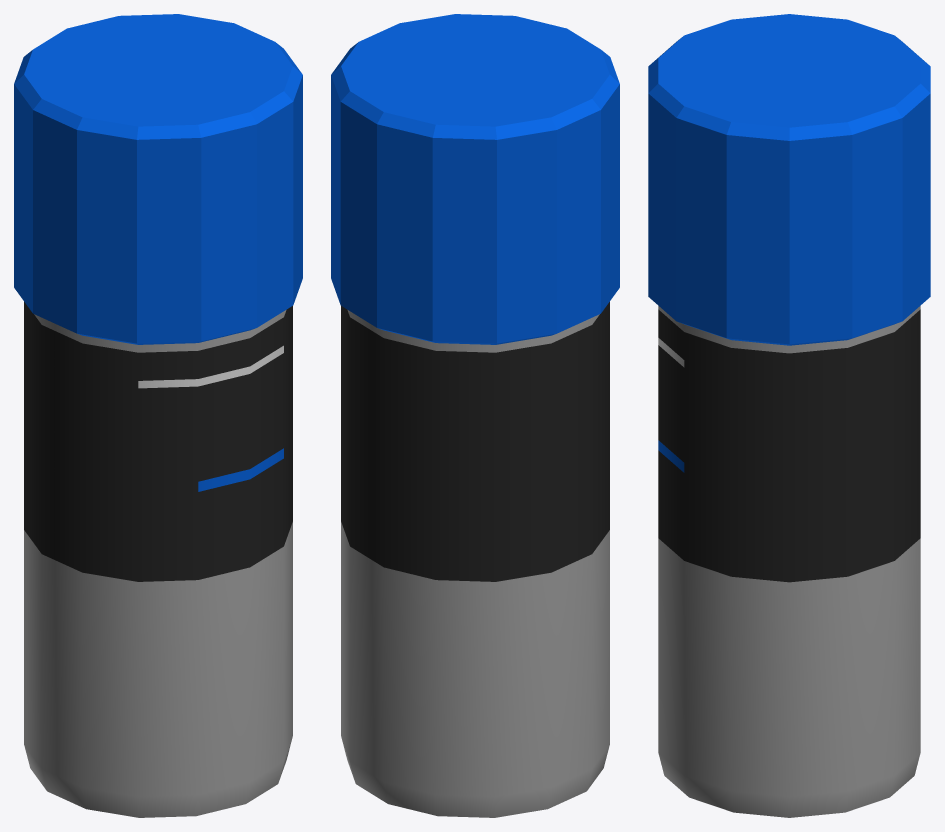
Rendered from SprayPaint_Blue.fbx.
3 views of the same model, side by side, from view 1: azimuth 30°, elevation 25°; view 2: azimuth 150°, elevation 25°; view 3: azimuth 270°, elevation 25° (orthographic).
Visible parts, largest first — view 1: pCylinder5; view 2: pCylinder5; view 3: pCylinder5.
Part boxes in pixels (<box>): pCylinder5: <box>14,14,302,817</box>; pCylinder5: <box>331,14,619,817</box>; pCylinder5: <box>648,14,930,817</box>.
Size of the model in its own units: 3.04 by 8.04 by 2.97.
